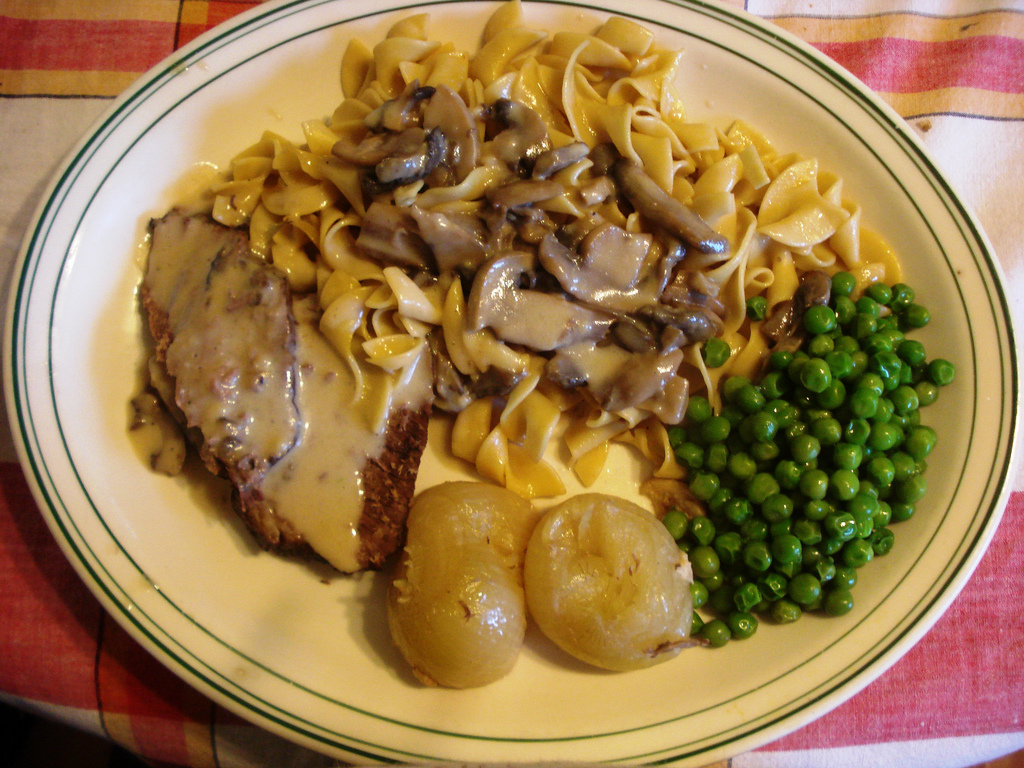boiled peas: (775, 368, 868, 579)
boiled potatoes: (437, 512, 655, 648)
plain spaghetti: (486, 43, 701, 166)
